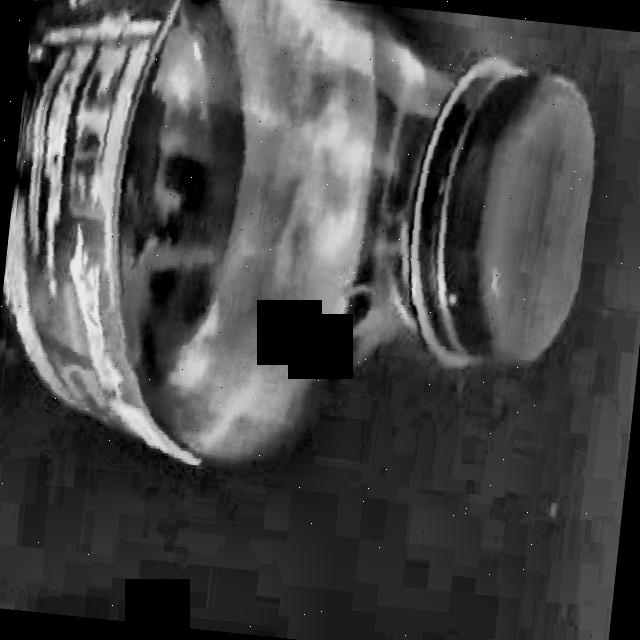bottle: (1, 0, 592, 466)
